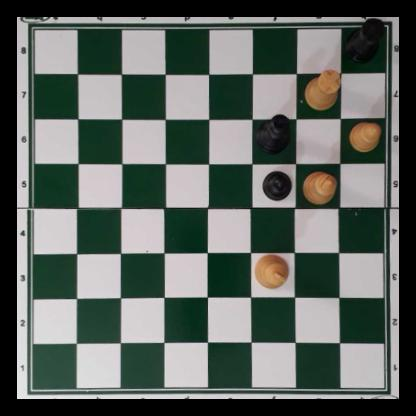black-king: (255, 115, 289, 154)
black-pawn: (261, 169, 292, 200)
black-rook: (344, 18, 384, 63)
white-bishop: (303, 169, 338, 204)
white-king: (252, 252, 290, 290)
white-pawn: (349, 120, 382, 153)
white-rook: (304, 68, 342, 110)
